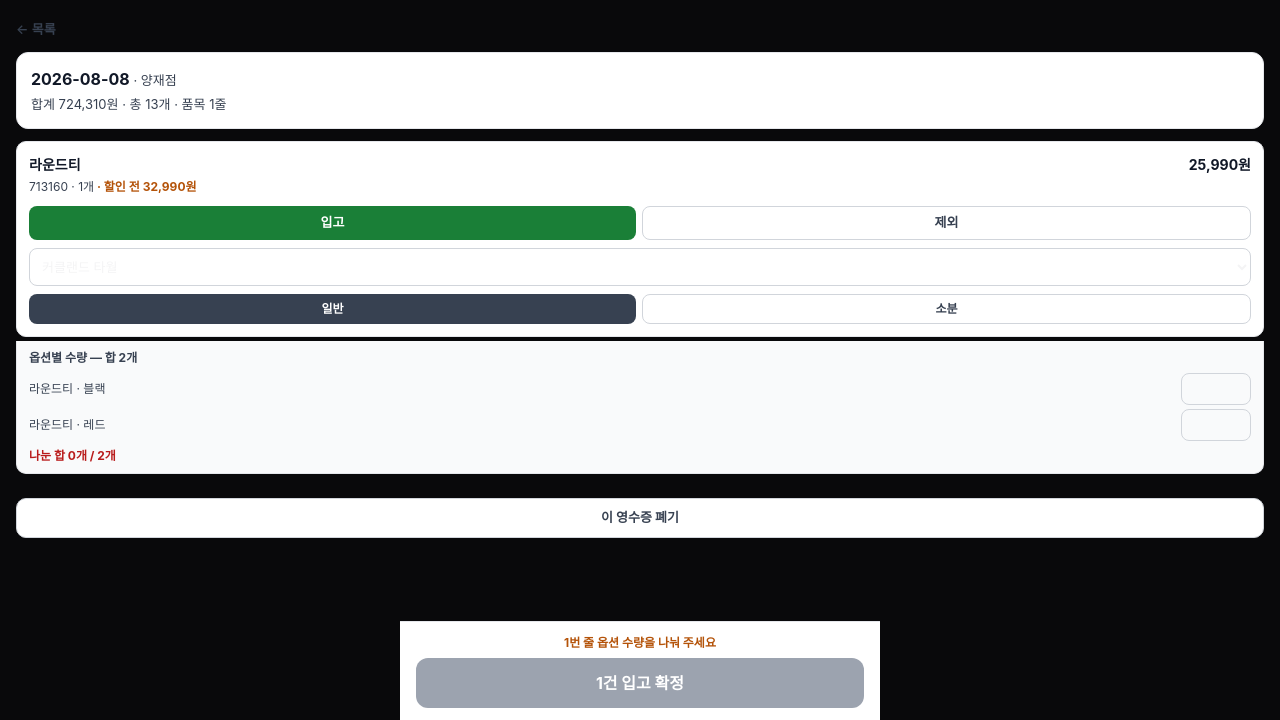
Test case: ReceiptDetail › 🔴 옵션별 합이 입고 수량과 다르면 확정을 막고 줄 번호를 알린다
The width and height of the screenshot is (1280, 720).
Type "1" into the number field named "라운드티 · 블랙 수량".
click(1216, 389); type("1")  # box [1181, 373, 1251, 405]
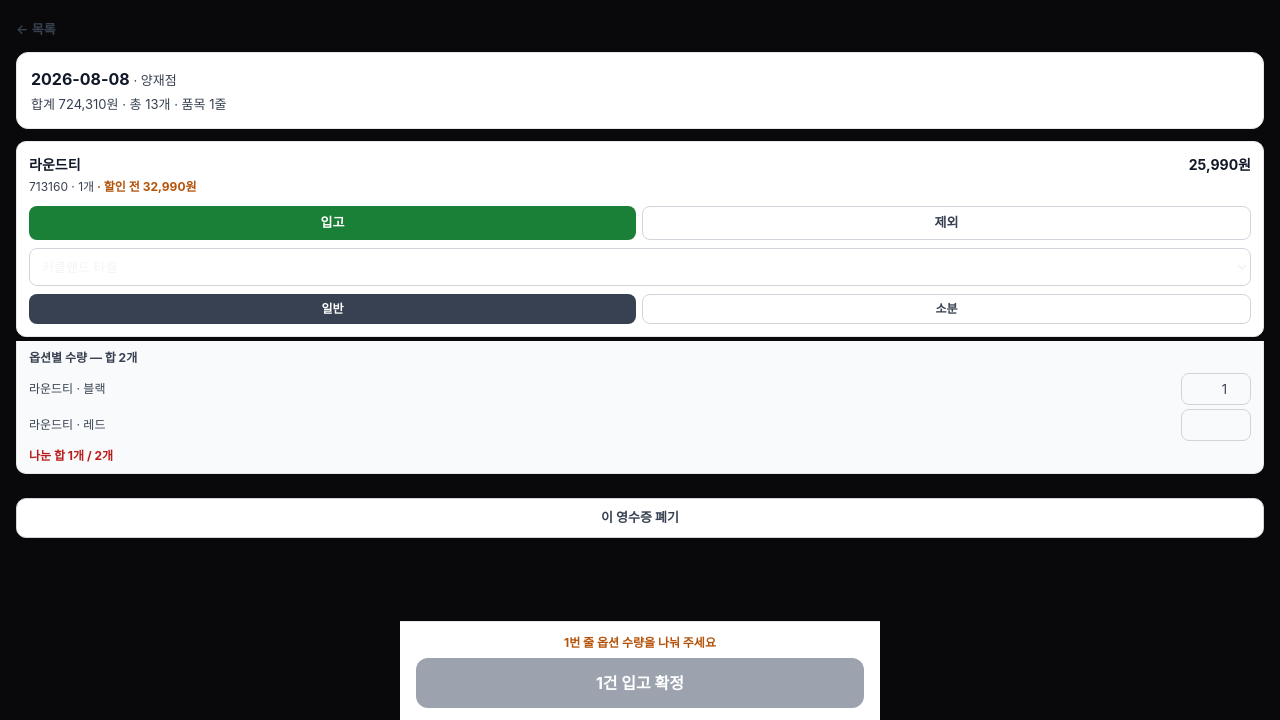
expect the button "1건 입고 확정" is disabled: met, box [416, 658, 864, 708]
expect the text "1번 줄 옵션 수량을 나눠 주세요" is shown: met, box [564, 635, 716, 650]
Type "1" into the number field named "라운드티 · 레드 수량".
click(1216, 425); type("1")  # box [1181, 409, 1251, 441]
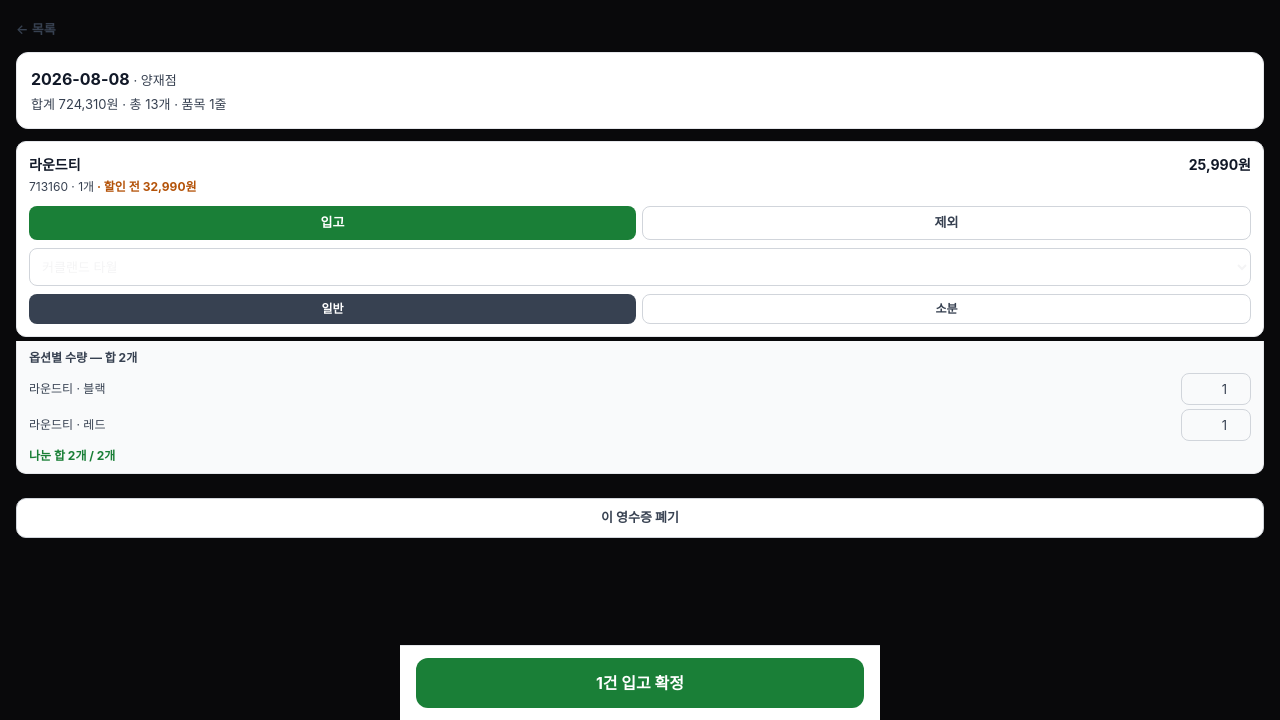
expect the button "1건 입고 확정" is enabled: met, box [416, 658, 864, 708]
expect the text "옵션 수량을 나눠 주세요" is gone: met
